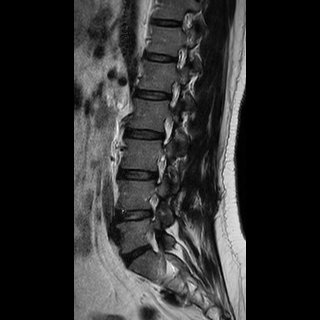LFS0: (138, 188, 165, 228), (147, 149, 174, 188), (160, 76, 185, 112), (151, 115, 178, 148)
